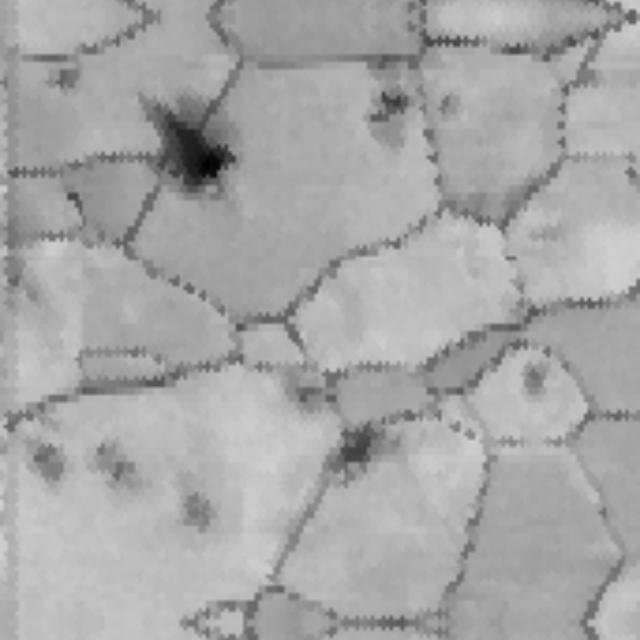good_void: (112, 80, 269, 220), (311, 402, 393, 494), (270, 351, 348, 425), (14, 429, 83, 497), (363, 79, 428, 142), (166, 488, 231, 546), (38, 53, 94, 112), (87, 438, 139, 489), (54, 180, 94, 235), (0, 258, 35, 308), (516, 369, 555, 410), (395, 14, 423, 43), (435, 93, 458, 121), (398, 0, 422, 18)
